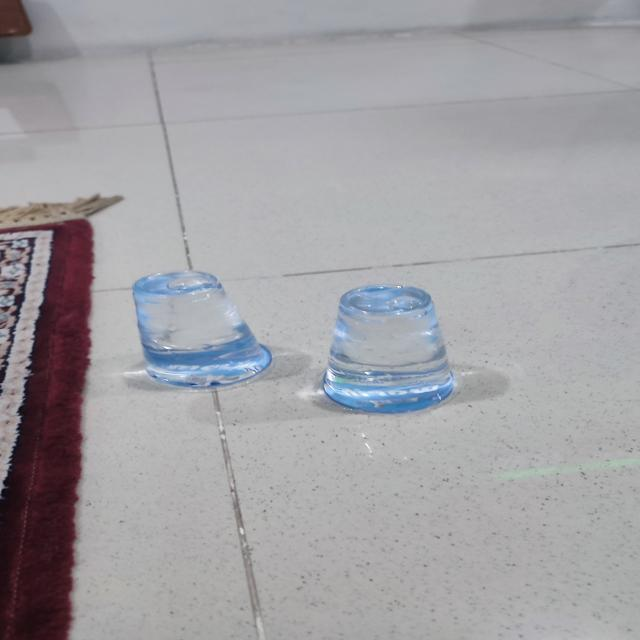air gelas: (126, 253, 276, 396), (316, 278, 454, 419)
